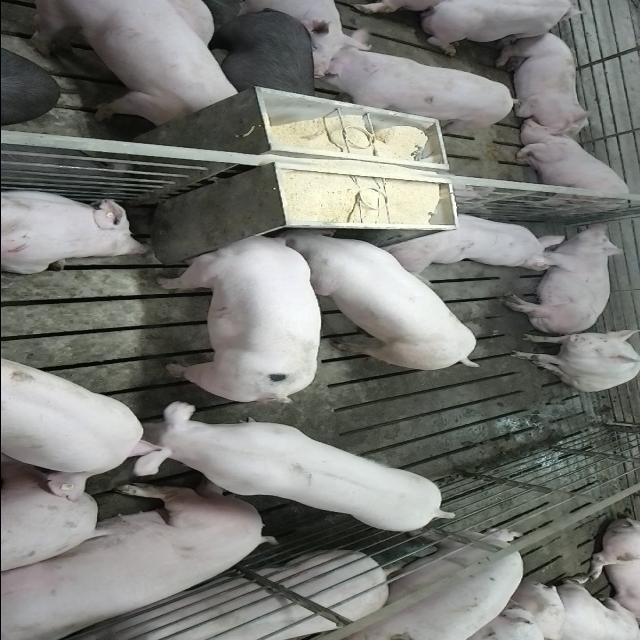Feeding: (275, 228, 480, 376), (156, 232, 322, 408)
Lateral_lying: (1, 480, 272, 636), (500, 223, 625, 336)
Sitting: (502, 126, 640, 216), (506, 328, 638, 392)
Standing: (117, 399, 453, 532), (37, 552, 389, 640), (18, 1, 246, 126), (335, 531, 528, 640), (308, 35, 526, 129), (0, 355, 143, 497), (198, 4, 320, 97)
Sternal_lying: (0, 188, 152, 274), (381, 208, 568, 272), (492, 31, 594, 132), (414, 3, 596, 57)
